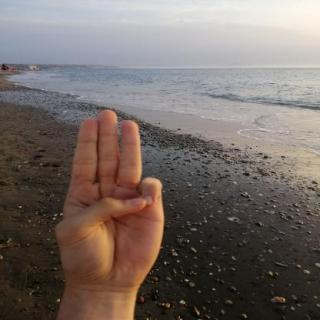THA: (42, 99, 181, 298)
